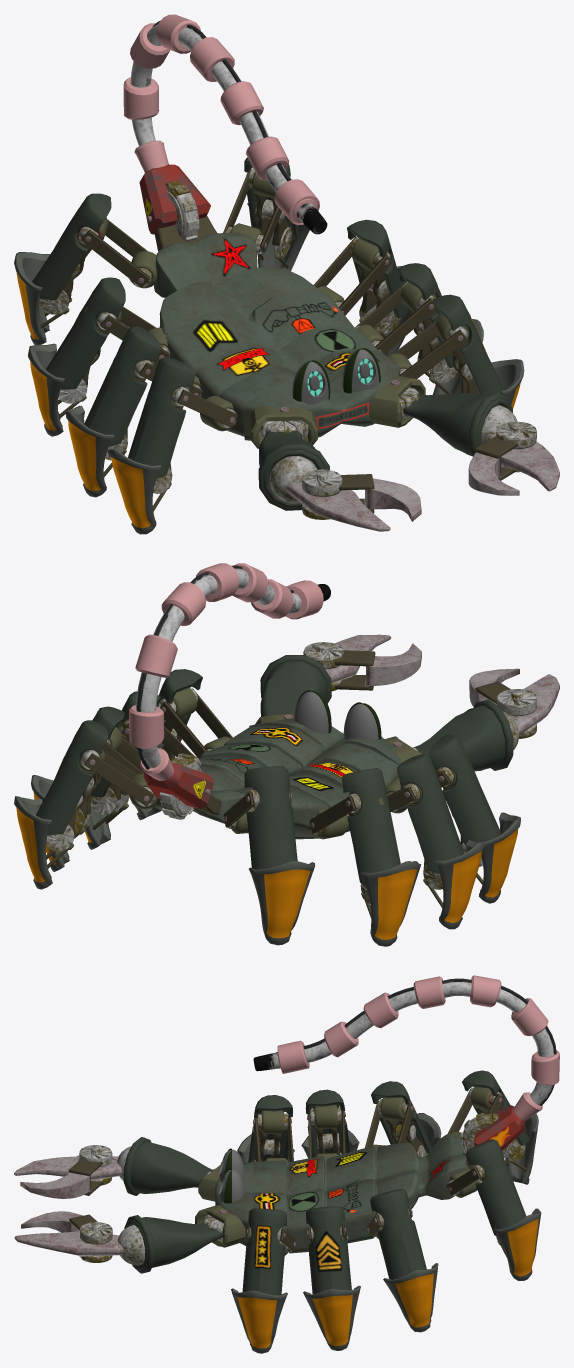
Rendered from robotic_scorpion_v03d.glb.
3 views of the same model, one above another, from view 1: azimuth 30°, elevation 25°; view 2: azimuth 150°, elevation 25°; view 3: azimuth 270°, elevation 25° (orthographic). The views are drawn at different scales.
Visible parts, largest first — view 1: Torso_FinalScorpion_GEO, Tail_Final, Claw_Final_03, Claw_Final_01, Leg_Final_15, Leg_Final_09, Leg_Final_13, Leg_Final_14, Leg_Final_12, Leg_Final_10, Leg_Final_11, Butt_Final_01 (+5 smaller); view 2: Torso_FinalScorpion_GEO, Tail_Final, Leg_Final_13, Leg_Final_09, Leg_Final_04, Claw_Final_03, Leg_Final_14, Claw_Final_01, Leg_Final_15, Leg_Final_12, Butt_Final_01, Leg_Final_10 (+3 smaller); view 3: Torso_FinalScorpion_GEO, Tail_Final, Claw_Final_03, Claw_Final_01, Leg_Final_04, Leg_Final_12, Leg_Final_10, Leg_Final_11, Leg_Final_13, Leg_Final_09, Leg_Final_15, Leg_Final_14 (+5 smaller).
Boxes of the visible parts, x1,y1,x2,y2 form: Torso_FinalScorpion_GEO: [154, 233, 400, 440]; Tail_Final: [123, 14, 327, 234]; Claw_Final_03: [403, 392, 559, 495]; Claw_Final_01: [258, 430, 421, 531]; Leg_Final_15: [107, 357, 237, 534]; Leg_Final_09: [14, 193, 156, 345]; Leg_Final_13: [28, 277, 169, 436]; Leg_Final_14: [65, 326, 202, 497]; Leg_Final_12: [387, 294, 524, 409]; Leg_Final_10: [313, 219, 411, 356]; Leg_Final_11: [354, 263, 483, 394]; Butt_Final_01: [139, 164, 217, 251]; Torso_FinalScorpion_GEO: [154, 718, 401, 839]; Tail_Final: [129, 563, 330, 780]; Leg_Final_13: [309, 768, 421, 946]; Leg_Final_09: [223, 766, 315, 945]; Leg_Final_04: [14, 720, 157, 889]; Claw_Final_03: [260, 634, 421, 716]; Leg_Final_14: [387, 754, 484, 929]; Claw_Final_01: [414, 668, 559, 771]; Leg_Final_15: [386, 734, 520, 903]; Leg_Final_12: [135, 669, 232, 820]; Butt_Final_01: [143, 753, 221, 819]; Leg_Final_10: [31, 706, 144, 871]; Torso_FinalScorpion_GEO: [215, 1134, 468, 1253]; Tail_Final: [253, 975, 559, 1121]; Claw_Final_03: [14, 1211, 222, 1273]; Claw_Final_01: [14, 1137, 212, 1198]; Leg_Final_04: [446, 1139, 541, 1280]; Leg_Final_12: [231, 1208, 295, 1353]; Leg_Final_10: [367, 1188, 438, 1332]; Leg_Final_11: [303, 1206, 360, 1350]; Leg_Final_13: [365, 1081, 441, 1156]; Leg_Final_09: [447, 1070, 538, 1184]; Leg_Final_15: [237, 1095, 294, 1166]; Leg_Final_14: [301, 1089, 359, 1164].
Size of the model in its own units: 0.0729 by 0.064 by 0.1034.
Materials: 1 (1 with a texture image).
